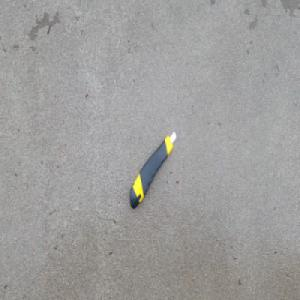Cutter: (128, 129, 177, 209)
